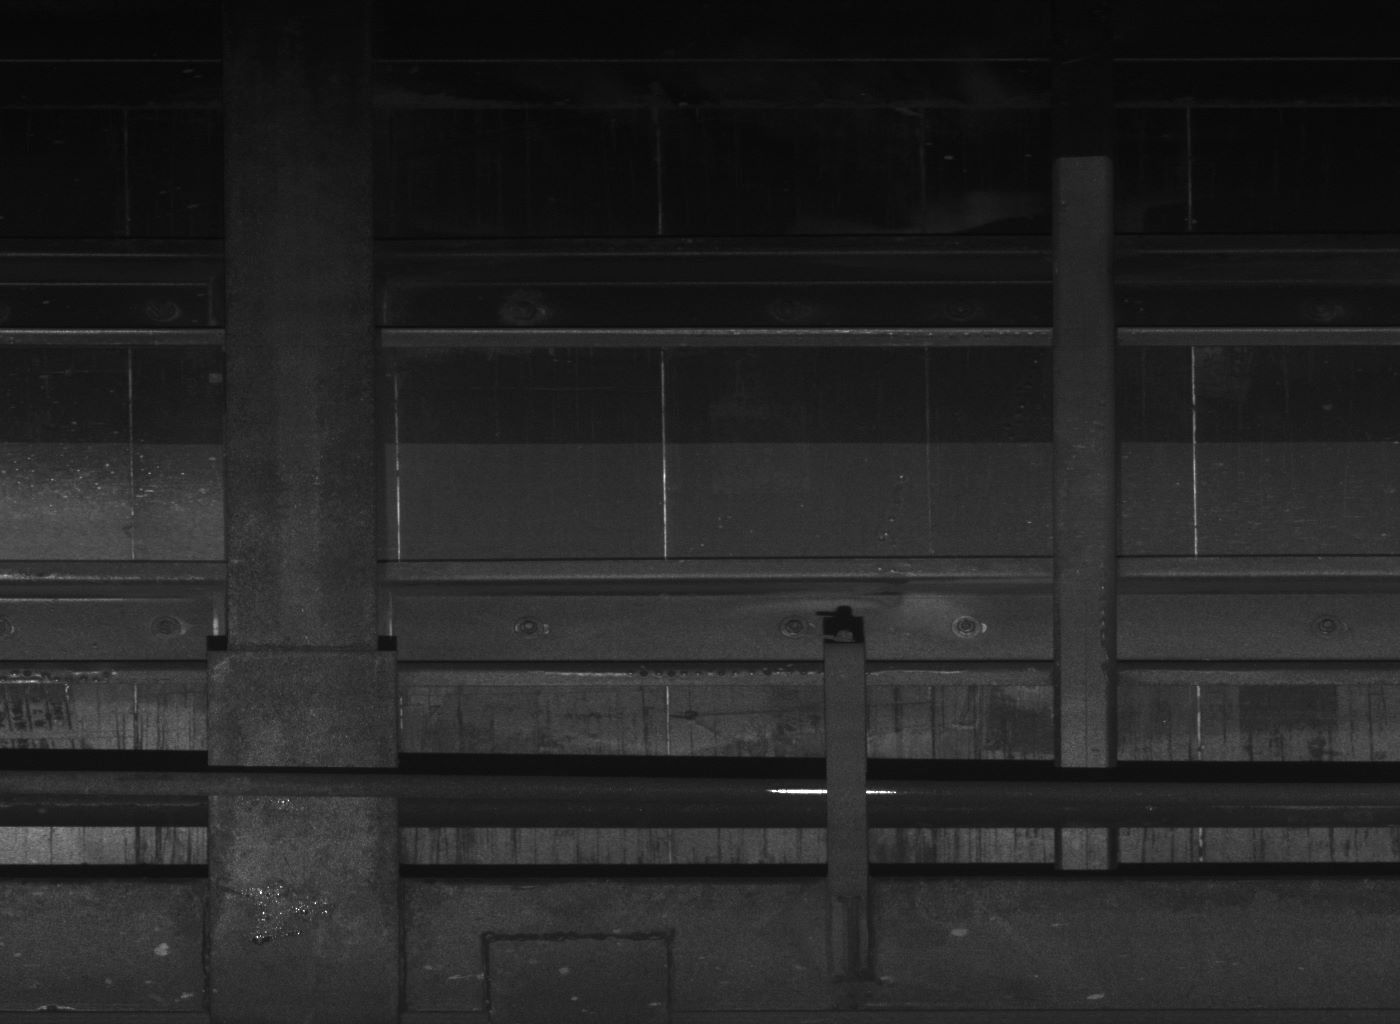normal: (823, 628, 873, 981)
